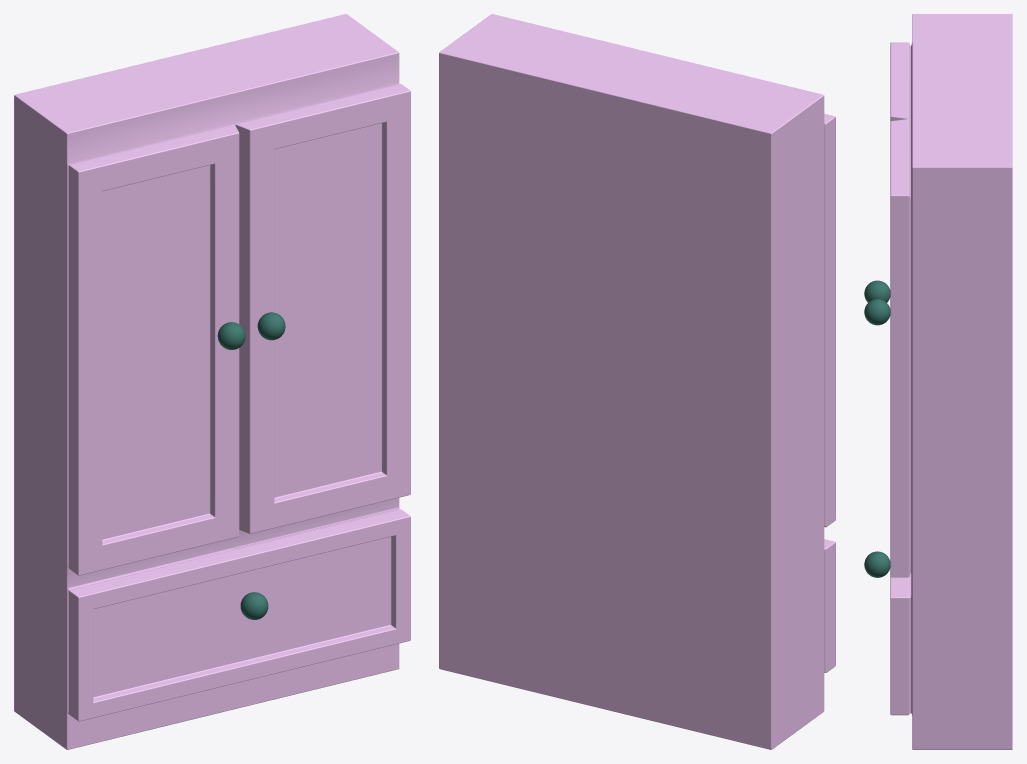
File: closet4.fbx
3 renders of one model, left to right at view 1: azimuth 30°, elevation 25°; view 2: azimuth 150°, elevation 25°; view 3: azimuth 270°, elevation 25°, orthographic. The views are drawn at different scales.
Visible parts, largest first — view 1: cabin, bed.005; view 2: cabin; view 3: cabin, bed.005, bed.006.
Part boxes in pixels (<box>): cabin: <box>14,14,410,749</box>; bed.005: <box>217,312,285,349</box>; cabin: <box>439,14,835,749</box>; cabin: <box>890,14,1012,749</box>; bed.005: <box>864,280,890,325</box>; bed.006: <box>864,551,890,577</box>.
Size of the model in its own units: 250 by 444 by 102.
